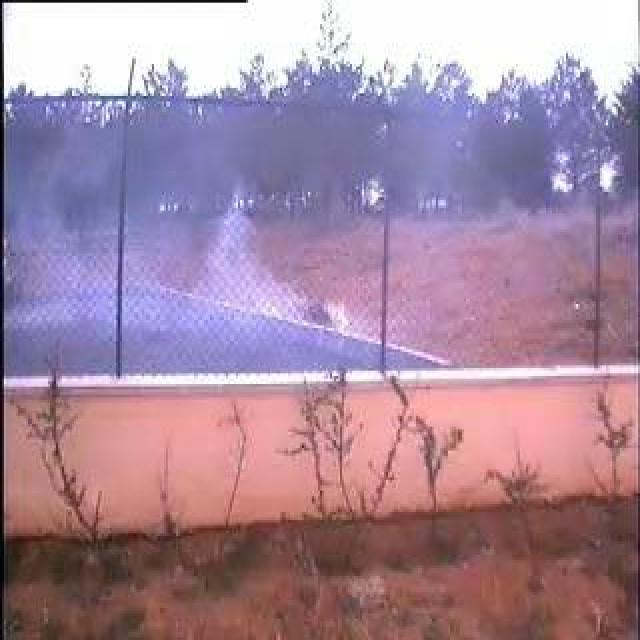Smoke: (122, 108, 394, 372)
